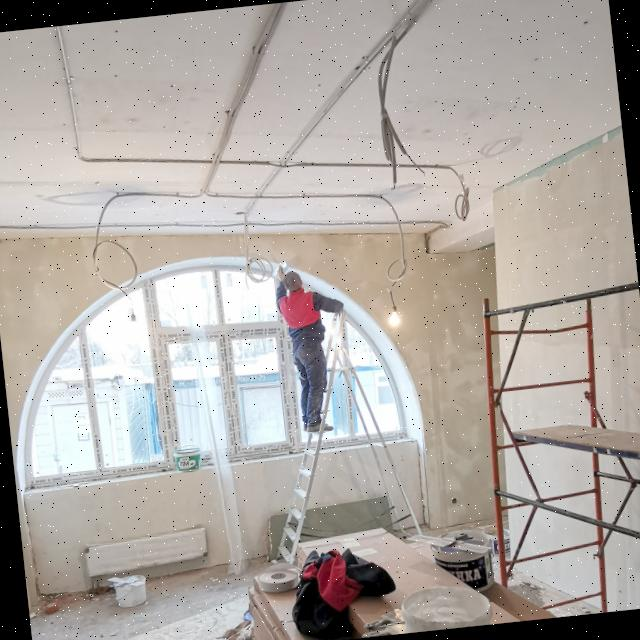NoHelmet: (284, 271, 306, 295)
